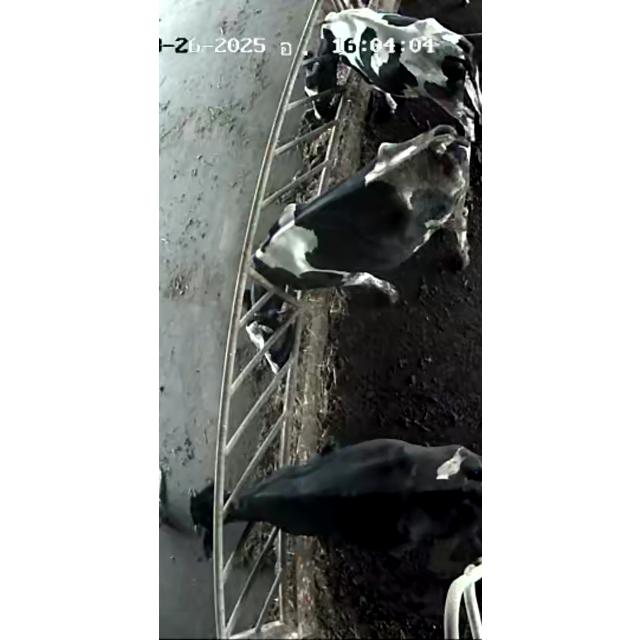eat: (190, 205, 402, 367), (179, 459, 339, 545), (277, 5, 371, 124)
